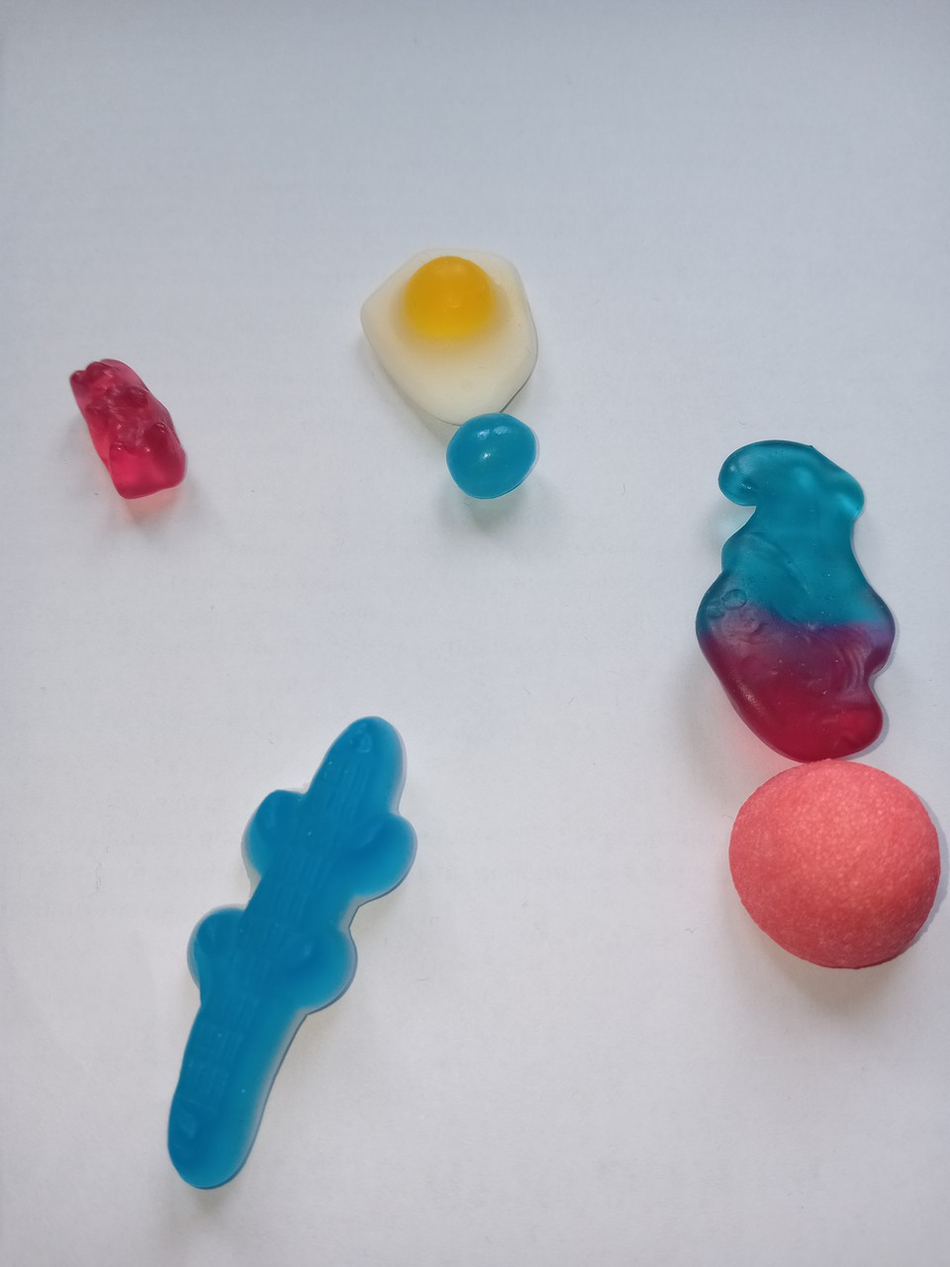crocodile_bleu: (148, 705, 425, 1197)
dragibus_bleu: (439, 410, 542, 499)
oeuf_oeuf: (362, 241, 543, 427)
ourson_rouge: (54, 347, 189, 506)
schtroumpf_bleu-rouge: (684, 437, 900, 765)
tagada_fraise: (716, 756, 943, 979)
